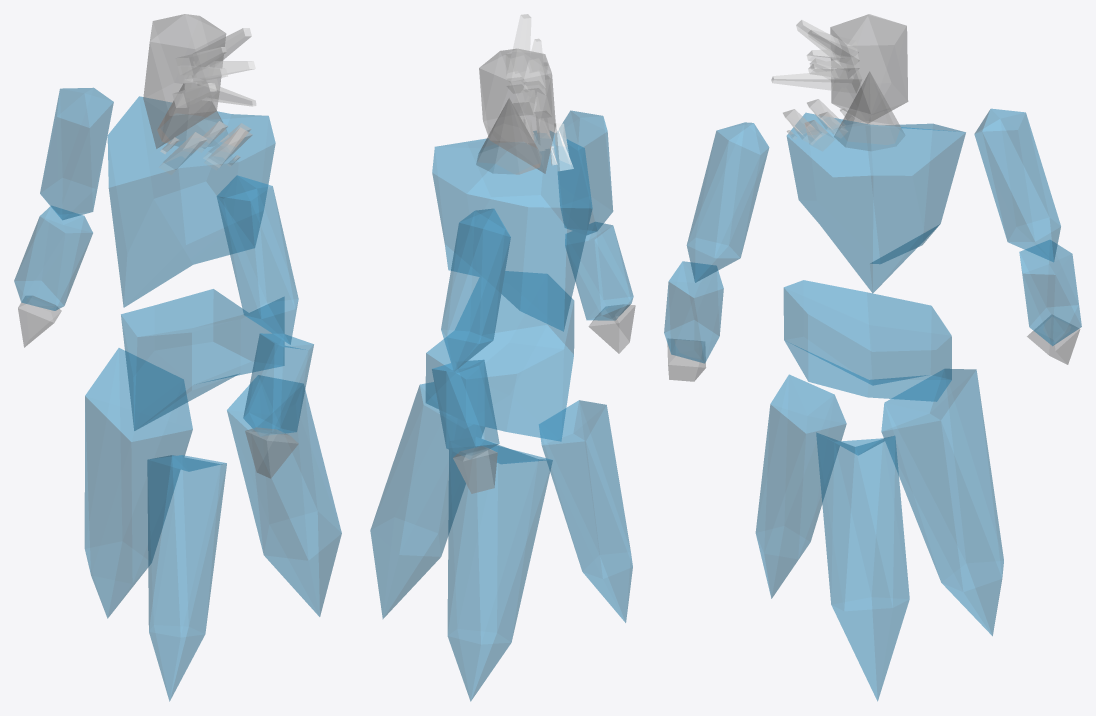
The model's file is ghostDistanceAttack8.obj.
3 views of the same model, side by side, from view 1: azimuth 30°, elevation 25°; view 2: azimuth 150°, elevation 25°; view 3: azimuth 270°, elevation 25° (orthographic). The views are drawn at different scales.
Visible parts, largest first — view 1: Cube.001_Cube.007, Icosphere.020, Icosphere.019, Cube_Cube.007, Icosphere.018, Icosphere.005_Icosphere.007, Icosphere.003_Icosphere.007, Icosphere.007_Icosphere.006, Icosphere.006_Icosphere.006, Icosphere.008_Icosphere.006, Cone_Cone.007, Cube.002_Cube.007 (+8 smaller); view 2: Cube.001_Cube.007, Cube_Cube.007, Icosphere.020, Icosphere.019, Icosphere.018, Icosphere.007_Icosphere.006, Icosphere.003_Icosphere.007, Icosphere.005_Icosphere.007, Icosphere.008_Icosphere.006, Icosphere.006_Icosphere.006, Cone_Cone.007, Cube.003_Cube.007 (+6 smaller); view 3: Cube.001_Cube.007, Icosphere.020, Icosphere.019, Cube_Cube.007, Icosphere.018, Icosphere.005_Icosphere.007, Icosphere.007_Icosphere.006, Icosphere.003_Icosphere.007, Icosphere.006_Icosphere.006, Icosphere.008_Icosphere.006, Cone_Cone.007, Cube.003_Cube.007 (+4 smaller).
Boxes of the visible parts, x1,y1,x2,y2 form: Cube.001_Cube.007: [107, 96, 275, 307]; Icosphere.020: [84, 348, 192, 618]; Icosphere.019: [227, 375, 341, 616]; Cube_Cube.007: [121, 289, 284, 430]; Icosphere.018: [147, 455, 226, 701]; Icosphere.005_Icosphere.007: [216, 175, 298, 344]; Icosphere.003_Icosphere.007: [143, 14, 226, 148]; Icosphere.007_Icosphere.006: [40, 87, 113, 220]; Icosphere.006_Icosphere.006: [243, 333, 313, 436]; Icosphere.008_Icosphere.006: [14, 206, 92, 310]; Cone_Cone.007: [157, 83, 227, 147]; Cube.002_Cube.007: [245, 427, 298, 478]; Cube.001_Cube.007: [432, 131, 592, 331]; Cube_Cube.007: [425, 271, 574, 441]; Icosphere.020: [447, 437, 552, 701]; Icosphere.019: [370, 382, 484, 618]; Icosphere.018: [539, 400, 632, 622]; Icosphere.007_Icosphere.006: [441, 208, 510, 371]; Icosphere.003_Icosphere.007: [479, 48, 555, 173]; Icosphere.005_Icosphere.007: [556, 110, 613, 235]; Icosphere.008_Icosphere.006: [432, 359, 499, 459]; Icosphere.006_Icosphere.006: [565, 222, 633, 320]; Cone_Cone.007: [476, 98, 540, 174]; Cube.003_Cube.007: [453, 446, 497, 493]; Cube.001_Cube.007: [786, 112, 965, 293]; Icosphere.020: [881, 369, 1003, 635]; Icosphere.019: [816, 432, 909, 701]; Cube_Cube.007: [783, 280, 951, 401]; Icosphere.018: [755, 374, 846, 598]; Icosphere.005_Icosphere.007: [686, 122, 769, 282]; Icosphere.007_Icosphere.006: [974, 108, 1060, 262]; Icosphere.003_Icosphere.007: [830, 14, 908, 123]; Icosphere.006_Icosphere.006: [664, 261, 723, 363]; Icosphere.008_Icosphere.006: [1019, 240, 1081, 345]; Cone_Cone.007: [834, 71, 905, 150]; Cube.003_Cube.007: [1027, 315, 1080, 364].
Size of the model in its own units: 17.06 by 47.42 by 28.3.
